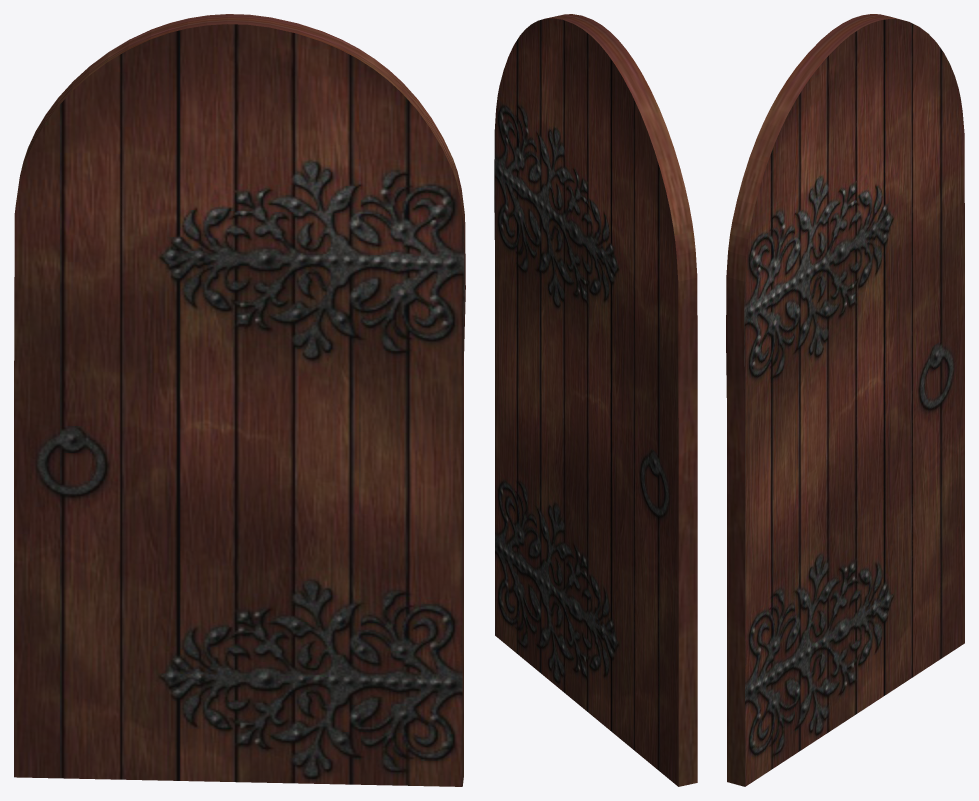
Rendered from door 9.obj.
3 views of the same model, side by side, from view 1: azimuth 30°, elevation 25°; view 2: azimuth 150°, elevation 25°; view 3: azimuth 270°, elevation 25° (orthographic). The views are drawn at different scales.
Visible parts, largest first — view 1: door_10:Mesh; view 2: door_10:Mesh; view 3: door_10:Mesh.
Part boxes in pixels (x1,y1,x2,y2): door_10:Mesh: (14,14,465,786); door_10:Mesh: (494,14,697,786); door_10:Mesh: (726,14,964,786).
Size of the model in its own units: 56.16 by 120 by 38.
Materials: 1 (1 with a texture image).
